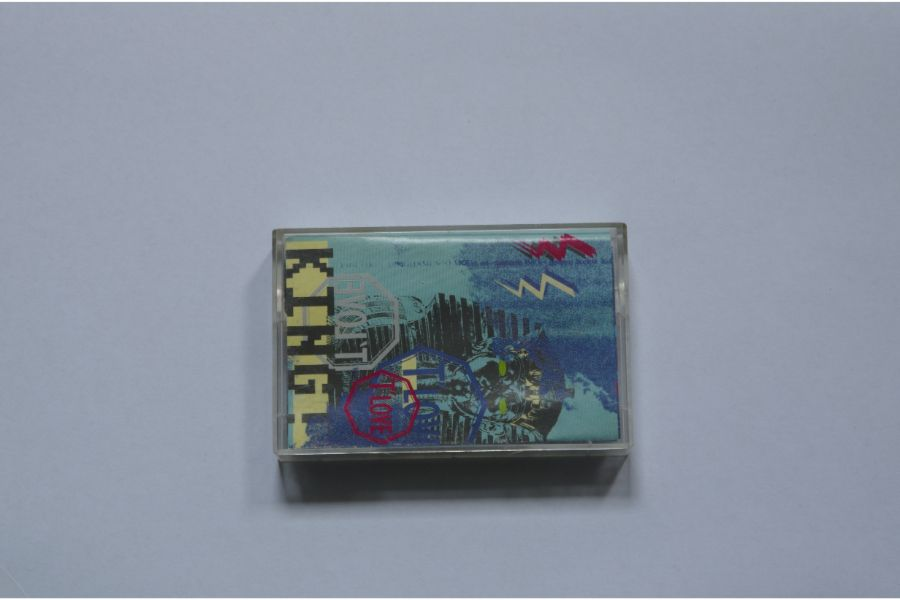album: (271, 222, 636, 460)
